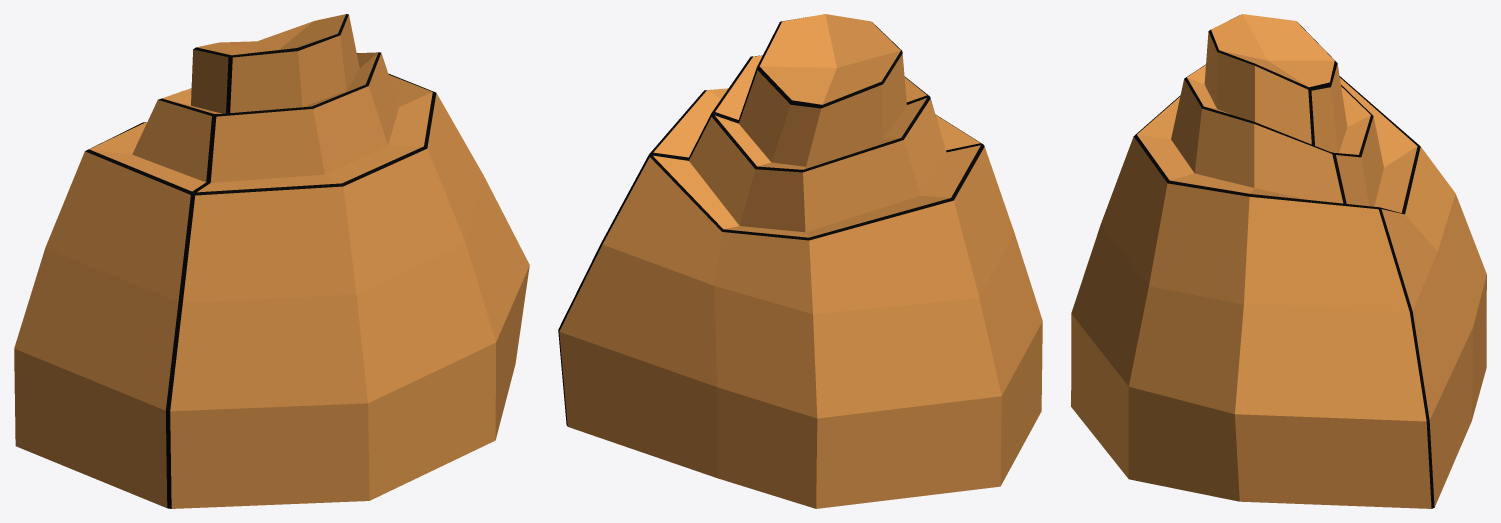
The model's file is PaperRock03.fbx.
3 renders of one model, left to right at view 1: azimuth 30°, elevation 25°; view 2: azimuth 150°, elevation 25°; view 3: azimuth 270°, elevation 25°, orthographic. The views are drawn at different scales.
Parts seen in each view (by area): view 1: Plane.013; view 2: Plane.013; view 3: Plane.013.
Boxes of the visible parts, <box> form: Plane.013: <box>14,14,529,508</box>; Plane.013: <box>558,14,1042,508</box>; Plane.013: <box>1071,14,1486,508</box>.
Size of the model in its own units: 7107 by 5976 by 5900.
